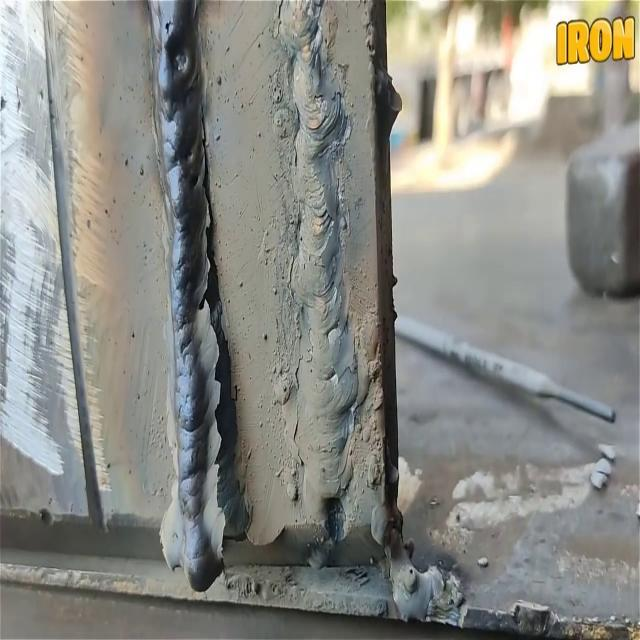Bad Weld: (139, 0, 249, 596), (272, 0, 370, 530)
Defect: (192, 110, 252, 547)
